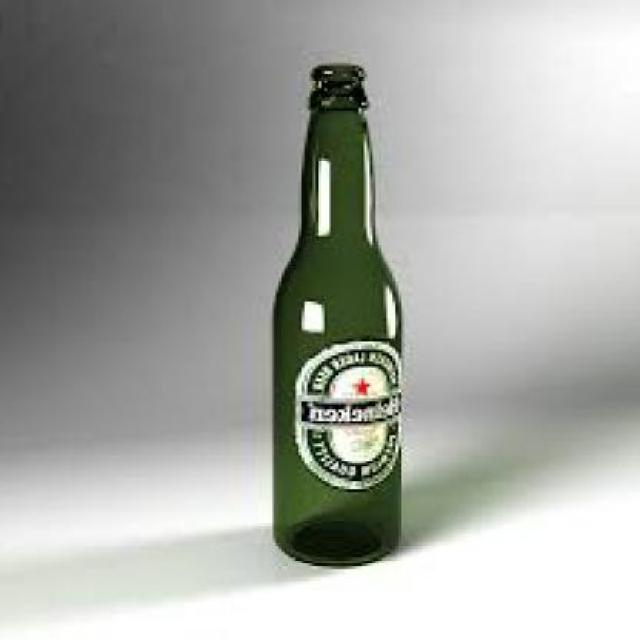GLASS: (270, 62, 404, 564)
